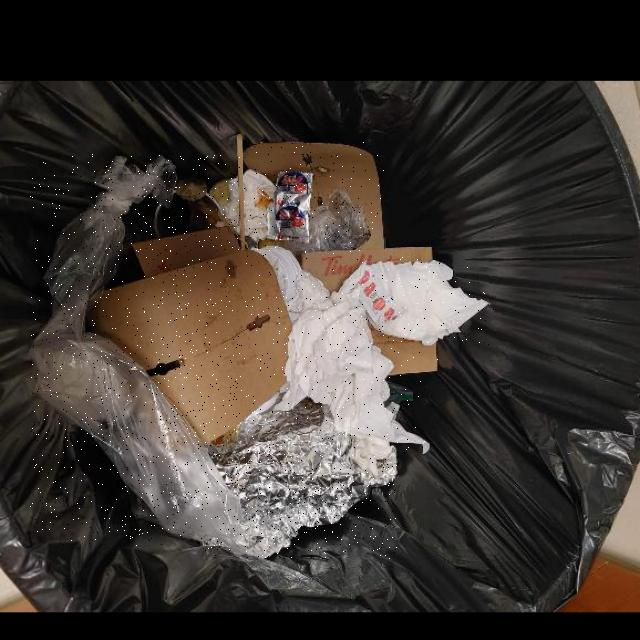metal: (204, 402, 397, 559)
paper: (86, 251, 292, 443), (275, 272, 430, 454), (244, 142, 385, 250), (337, 261, 489, 345), (302, 247, 433, 294), (370, 326, 438, 376)
plastic: (30, 154, 240, 546)
